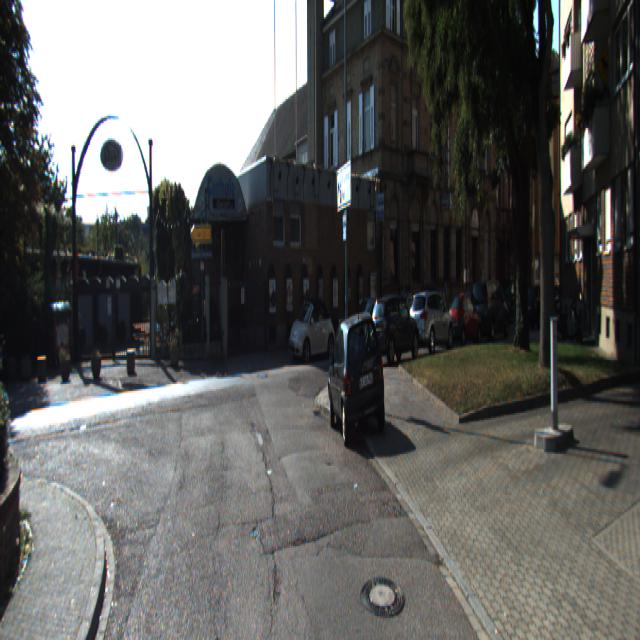Car: (327, 310, 388, 441), (367, 291, 420, 368), (289, 293, 336, 359), (408, 288, 454, 354), (470, 276, 510, 340), (448, 288, 482, 343)
